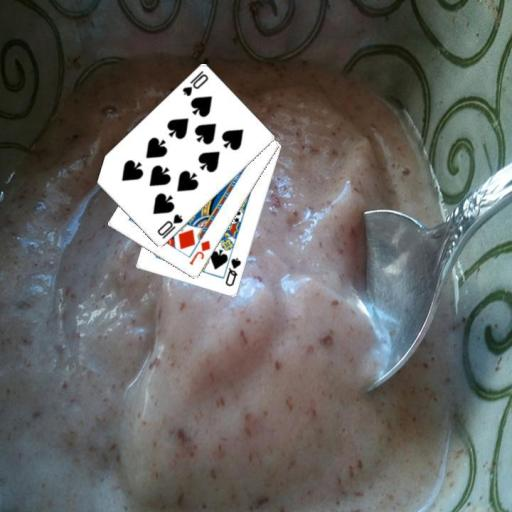10S: (179, 68, 210, 98), (154, 212, 184, 241)
JD: (186, 238, 212, 267)
QS: (222, 255, 242, 288)
